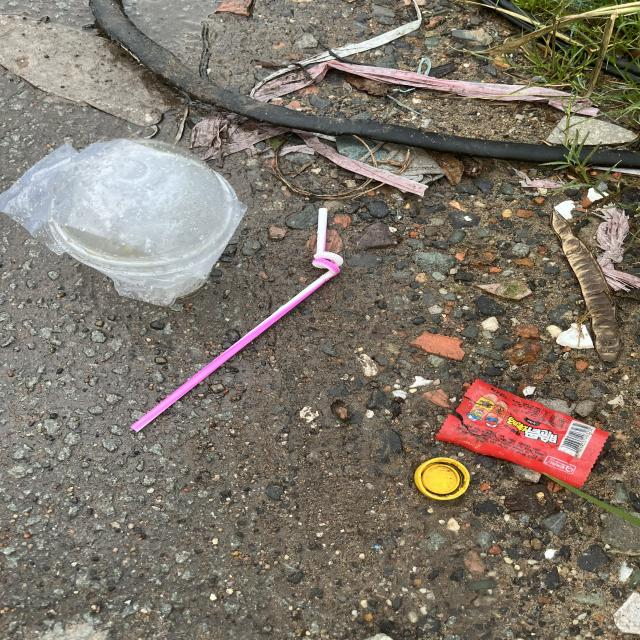drinking straw: (128, 209, 343, 433)
lid: (416, 456, 470, 499)
packet: (435, 377, 612, 486)
plastic glass: (47, 137, 240, 300)
